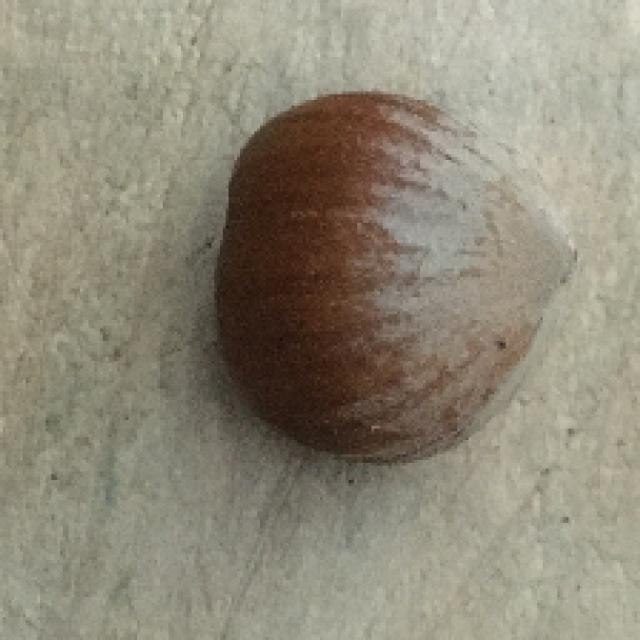qualityHazelnut: (220, 97, 584, 470)
